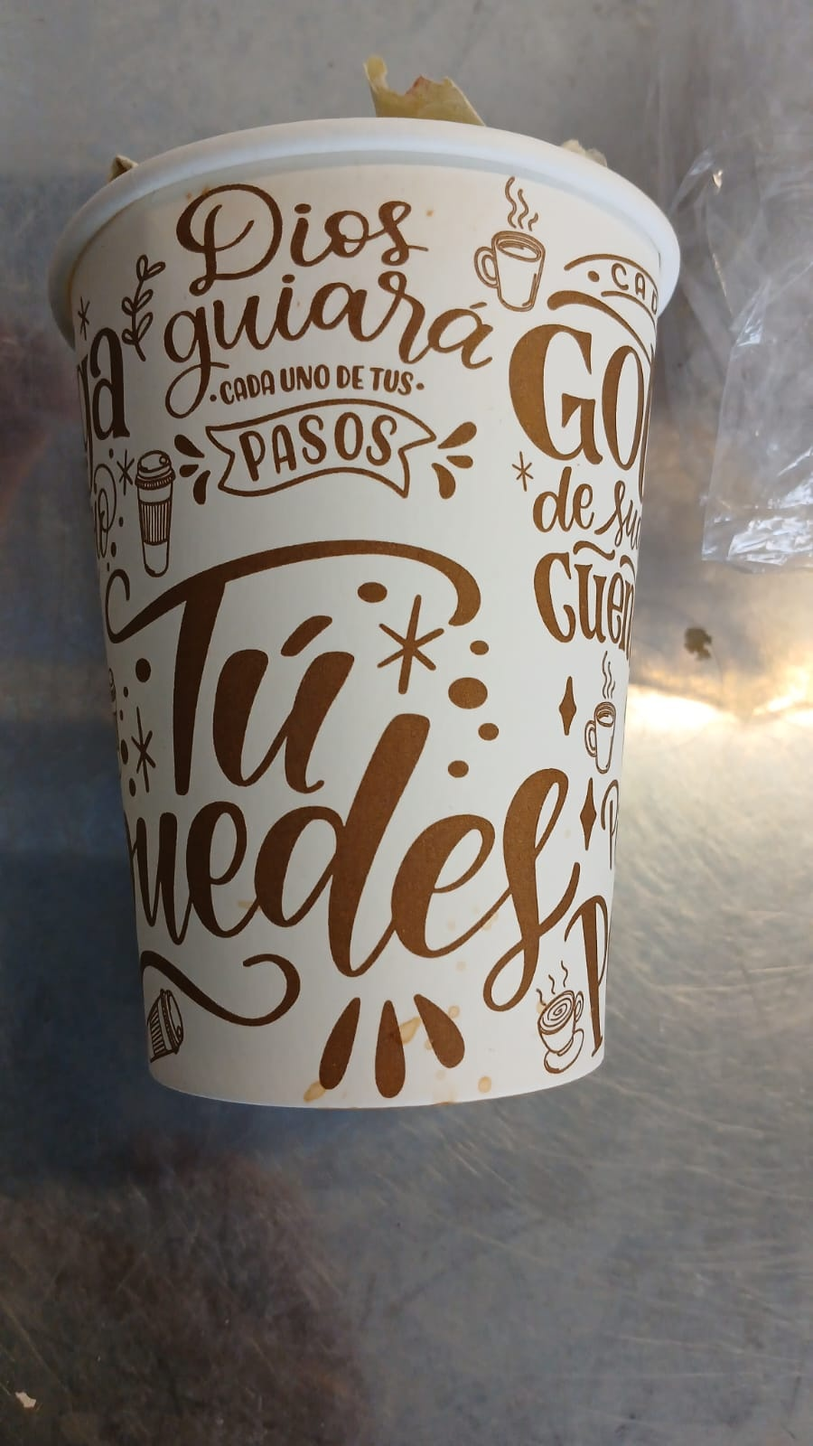Carton: (46, 113, 689, 1115)
